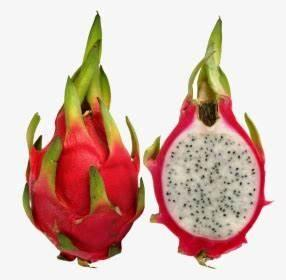dragon-fruit: (20, 7, 140, 271), (149, 13, 273, 268)
